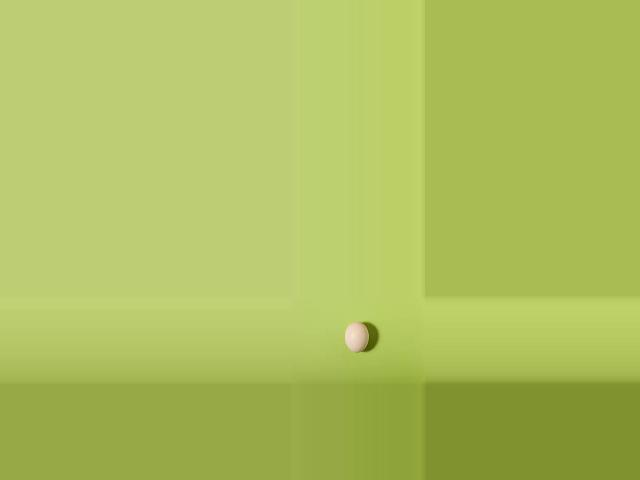egg: (346, 322, 369, 353)
